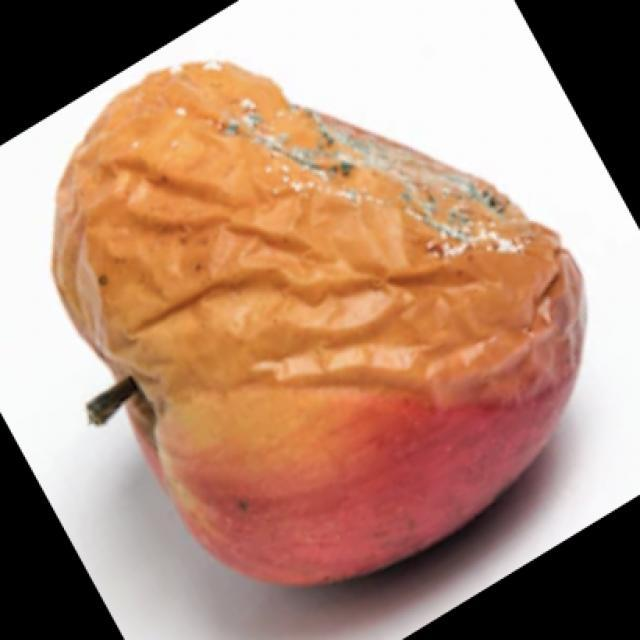Rotten: (60, 56, 578, 596)
